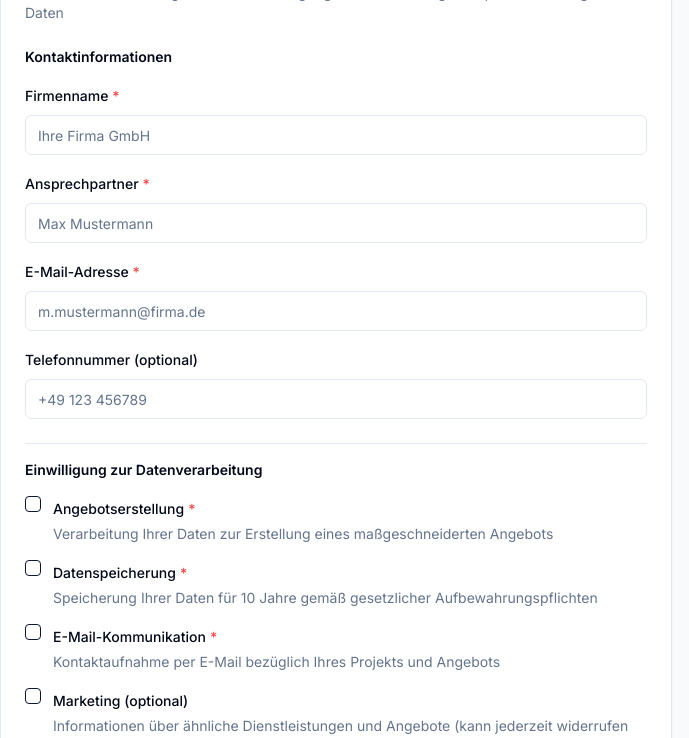
it: ConsentForm › Consent Purpose Handling › enables submit button when all required consents given
The width and height of the screenshot is (689, 738).
Click the checkbox next to "Angebotserstellung" at (33, 504), box top-left (25, 496), bottom-right (41, 512)
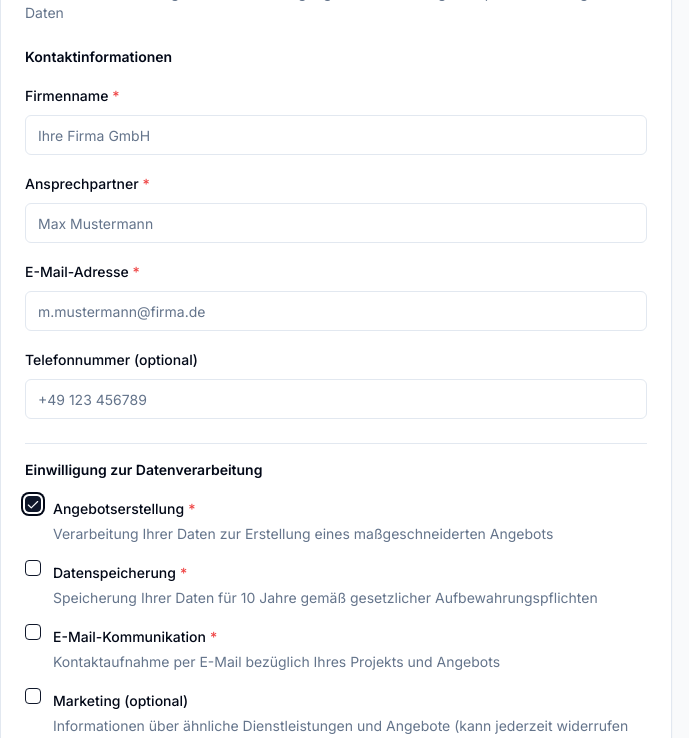
Click the checkbox next to "Datenspeicherung" at (33, 568), box top-left (25, 560), bottom-right (41, 576)
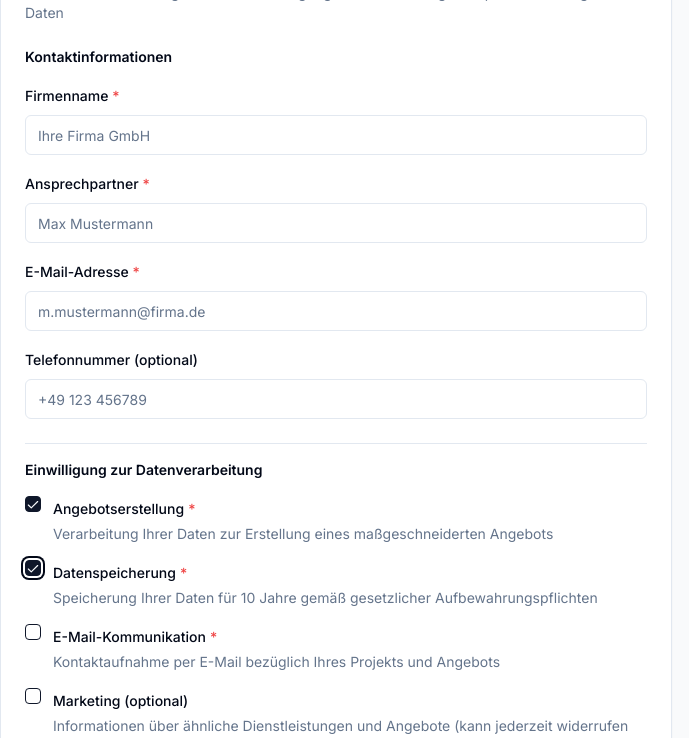
Click the checkbox next to "E-Mail-Kommunikation" at (33, 632), box top-left (25, 624), bottom-right (41, 640)
(page scrolled)
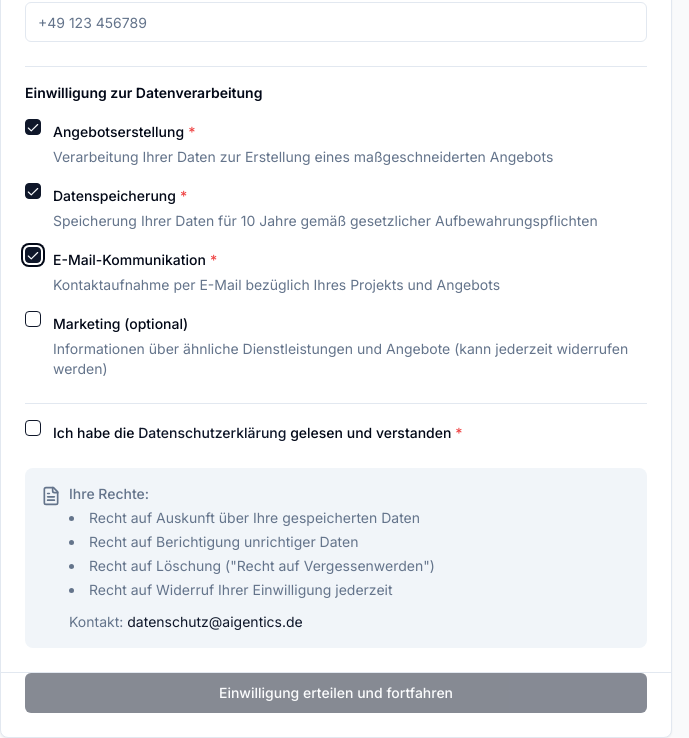
Click the checkbox named "Ich habe die" next to "Ich habe die" at (33, 428), box top-left (25, 420), bottom-right (41, 436)
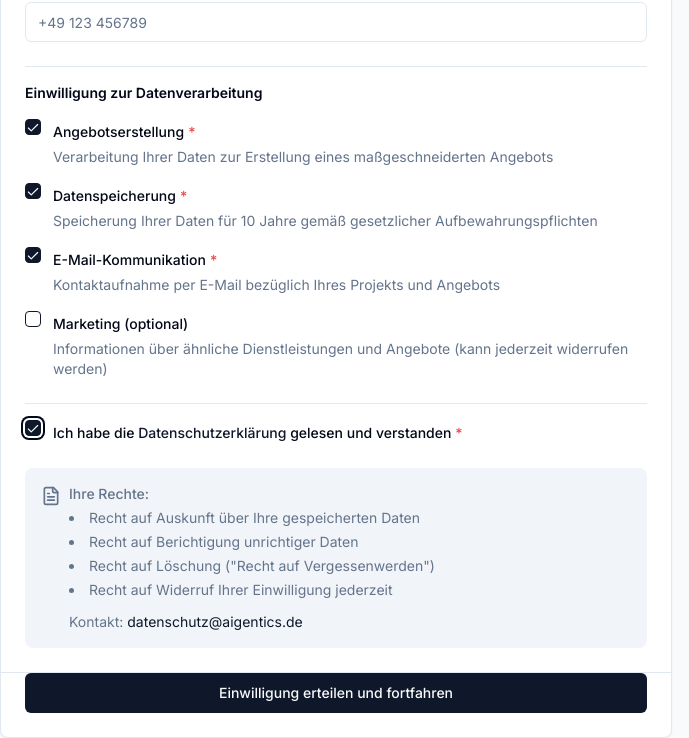
Now the button "Einwilligung erteilen und fortfahren" is enabled, box top-left (25, 673), bottom-right (647, 713)
